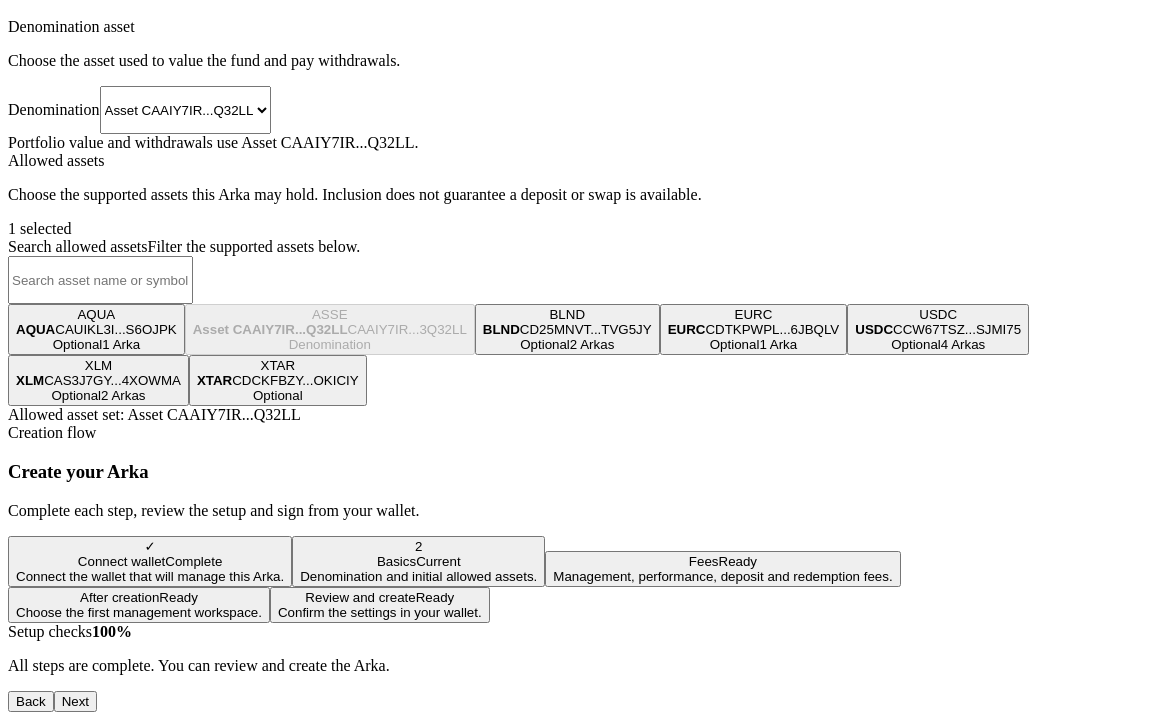
Test: workflow surfaces › requires a new review if the live creation fee changes before signing
(page scrolled)
Click the button with test id "create-step-fees".
click(723, 569)  # box [545,551,901,587]
(page scrolled)
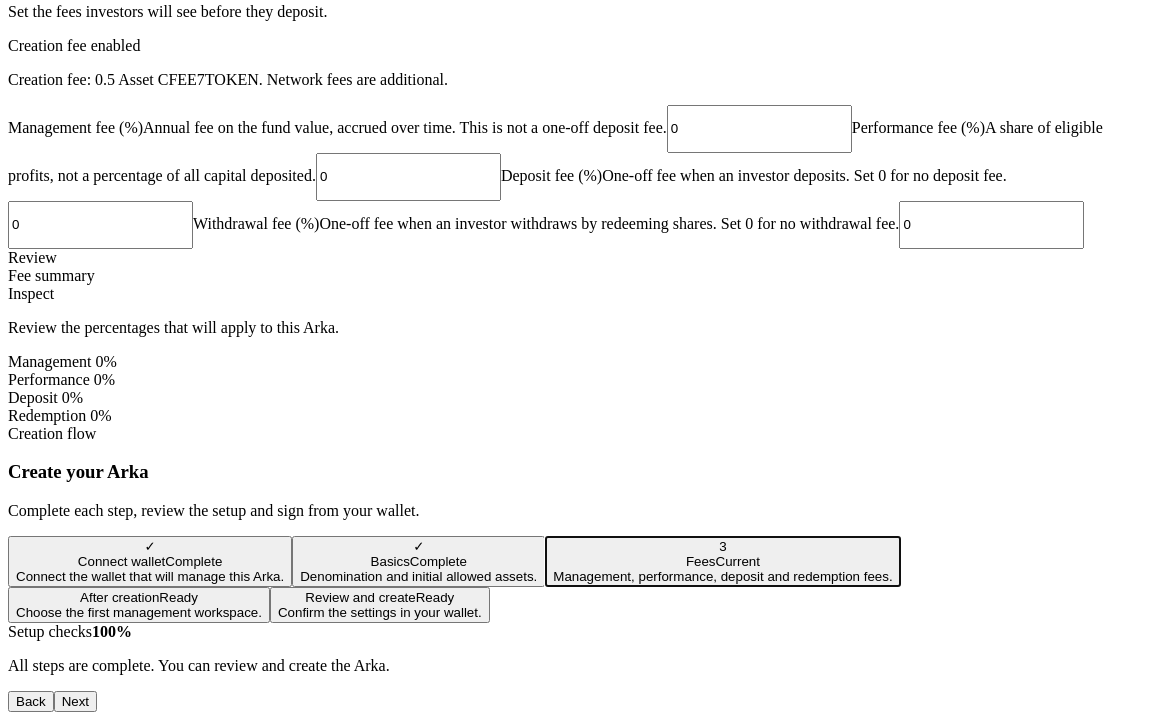
Expected: the text with test id "create-fee-live-status" shows "0.5", [95,71,259,88]
Click the button with test id "create-step-review".
click(380, 605)  # box [270,587,490,623]
(page scrolled)
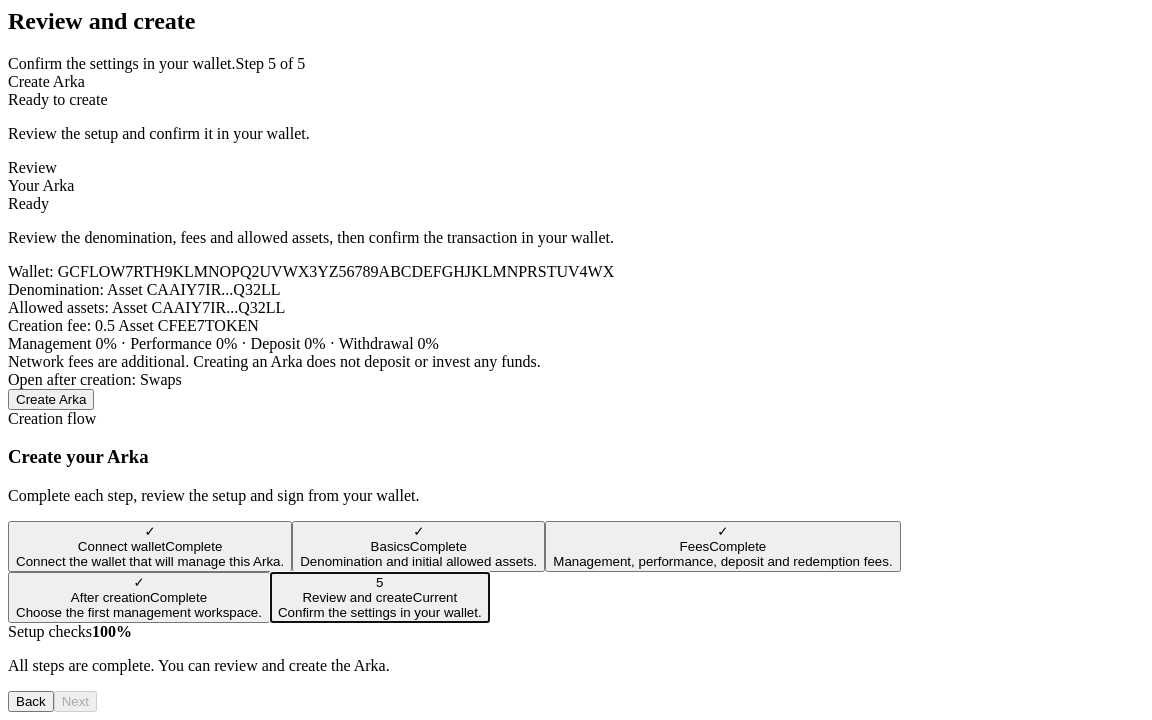
Expected: the button with test id "create-arka-submit-button" is enabled
Click the button with test id "create-arka-submit-button".
click(51, 399)  # box [8,389,94,410]
(page scrolled)
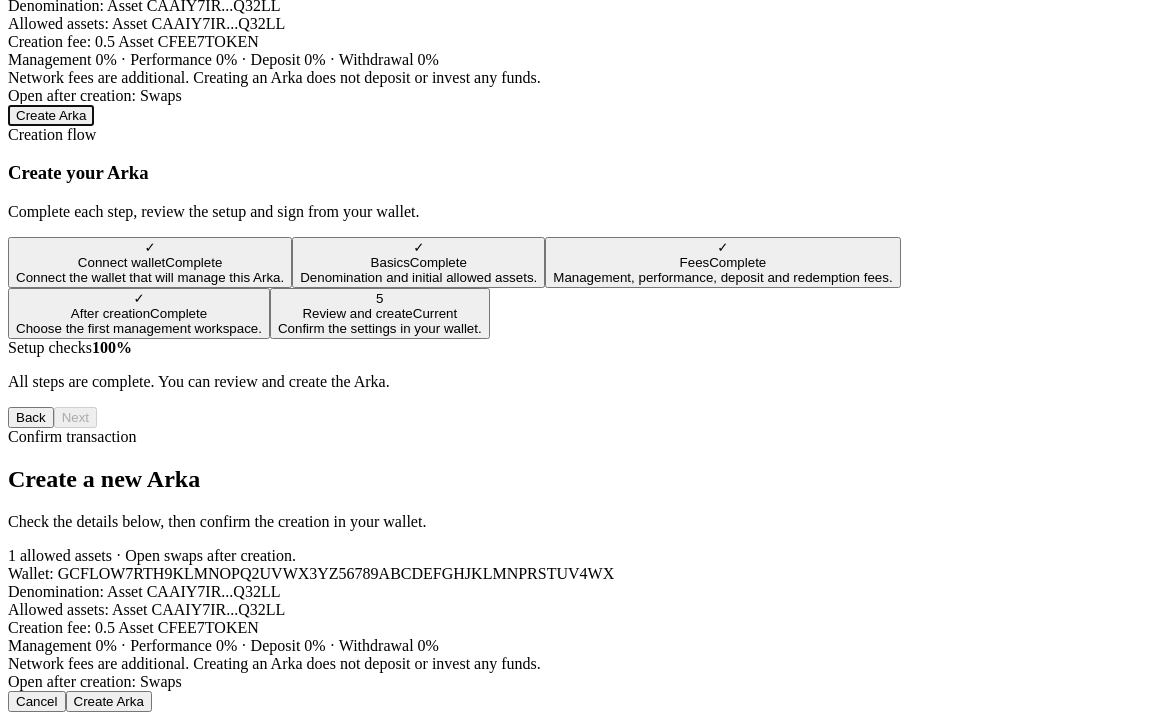
Click the button with test id "create-arka-confirm-button".
click(109, 701)  # box [66,691,152,712]
(page scrolled)
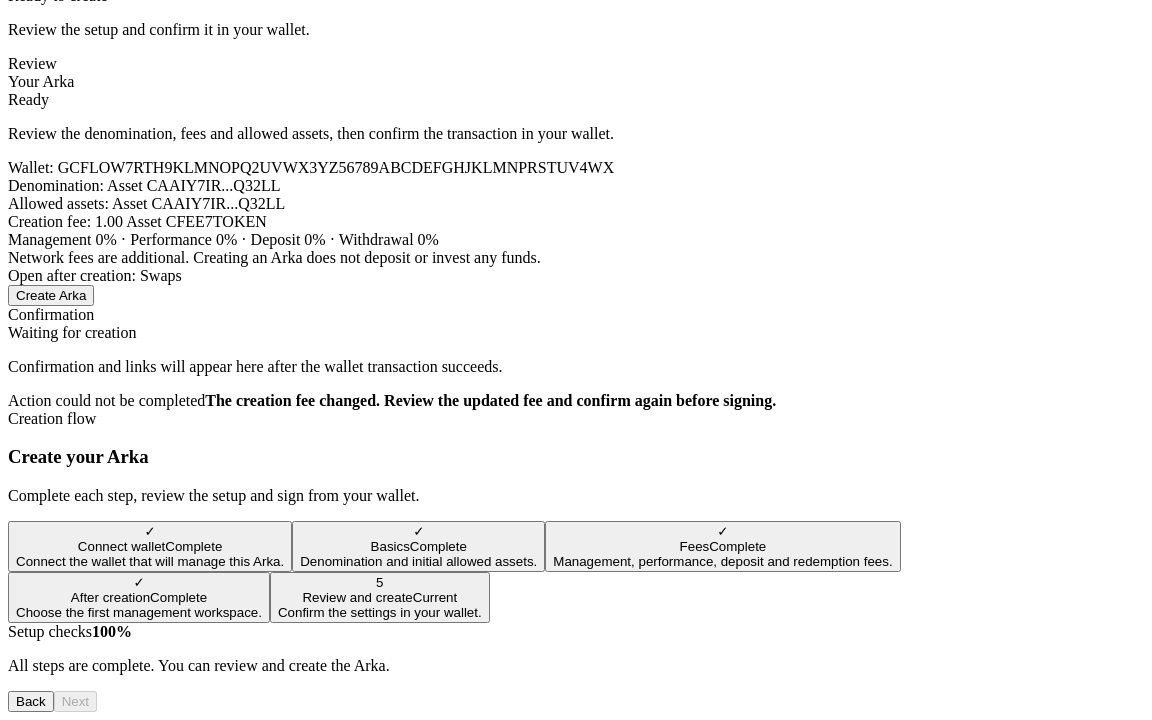
Expected: the text "The creation fee changed" is shown, [205,392,776,409]
Expected: the element with test id "create-arka-review-card" shows "1.00", [8,213,267,230]
